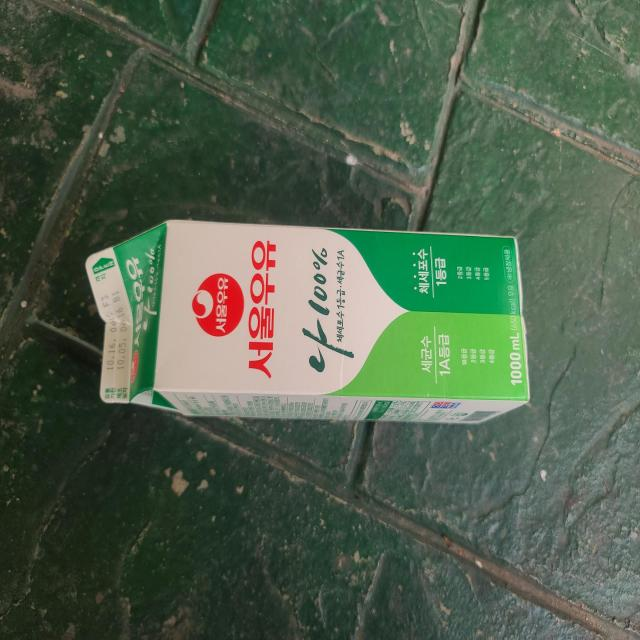paperpack: (85, 220, 530, 424)
